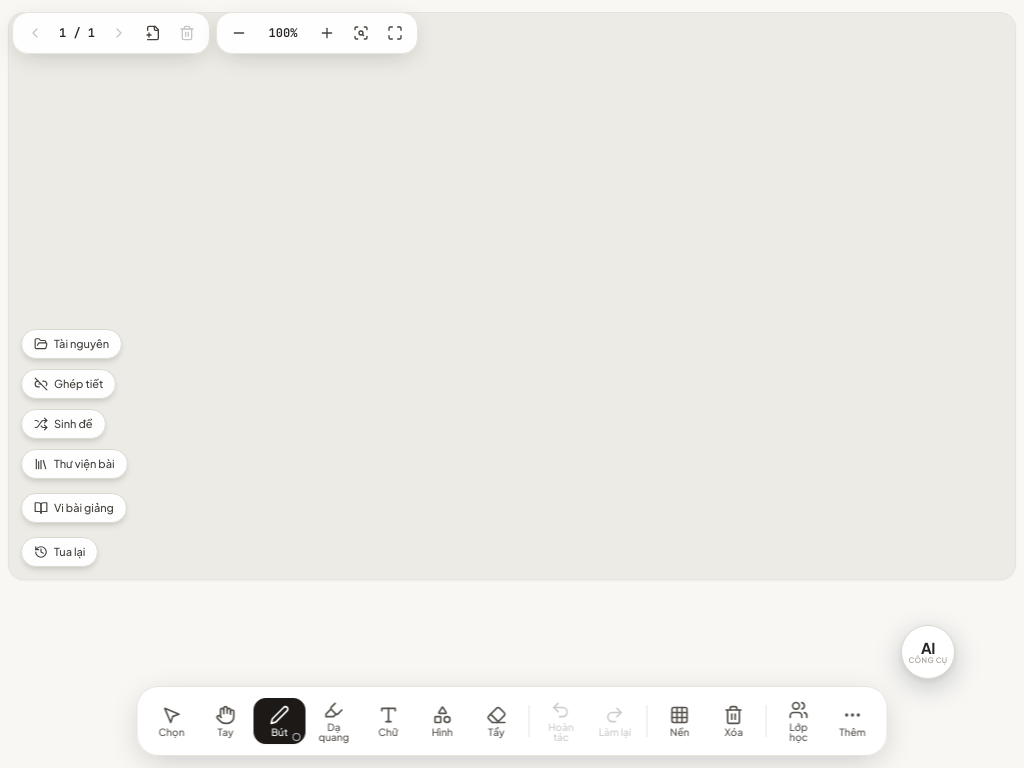
Test: bảng trắng: thu phóng, trang, công cụ › dock có công cụ Tay và Chữ; chọn Chữ rồi chạm bảng mở ô nhập
This screenshot has width=1024, height=768.
Click the button with test id "tool-text" at (388, 721), box top-left (362, 698), bottom-right (414, 744)
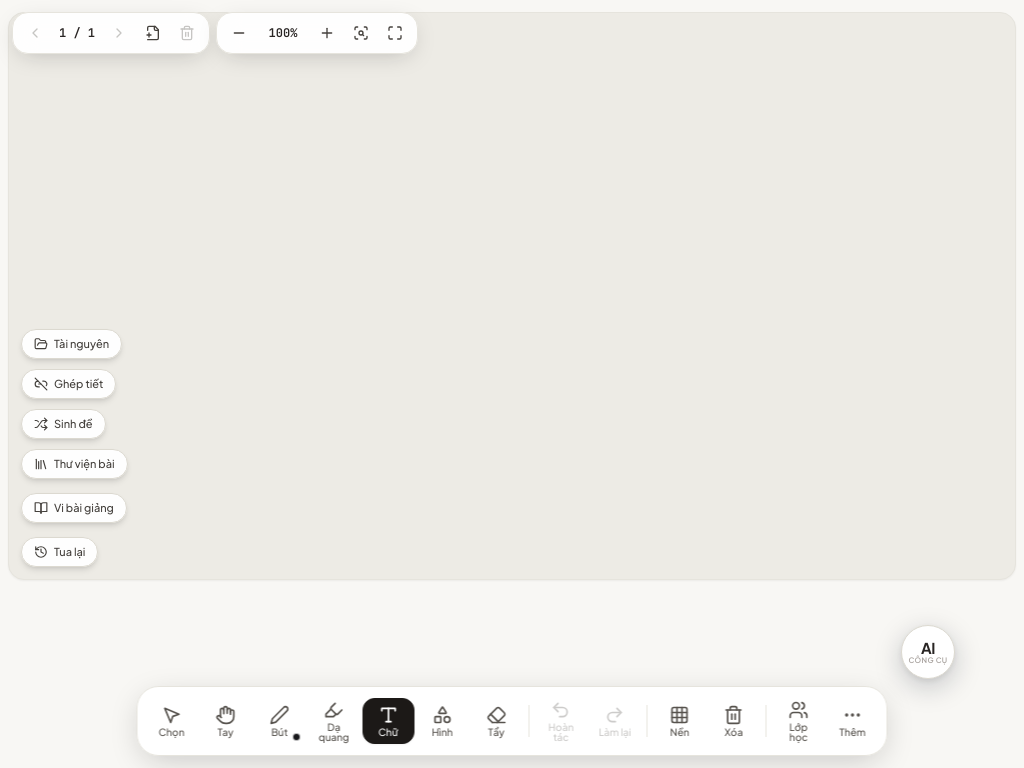
Press the mouse on the drawing with test id "chalkboard-canvas" at (512, 296), box top-left (9, 13), bottom-right (1015, 579)
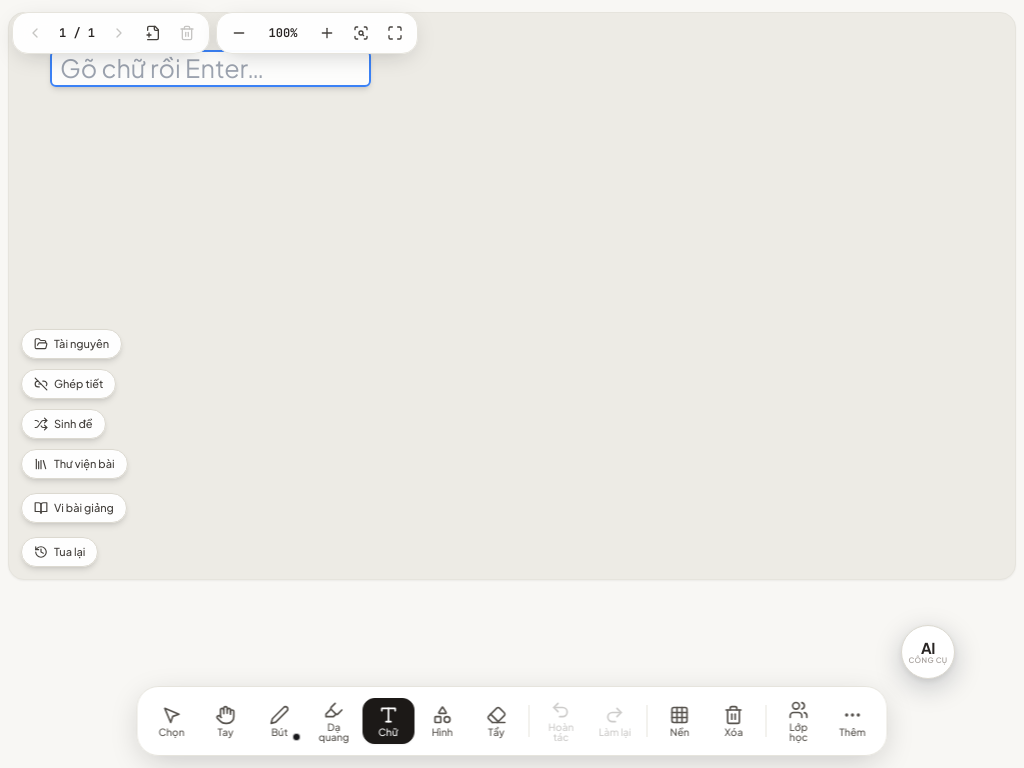
Expected: the button with test id "tool-pan" is shown, top-left (200, 698), bottom-right (252, 744)
Expected: the field with test id "text-draft-input" is shown, top-left (50, 50), bottom-right (371, 87)
